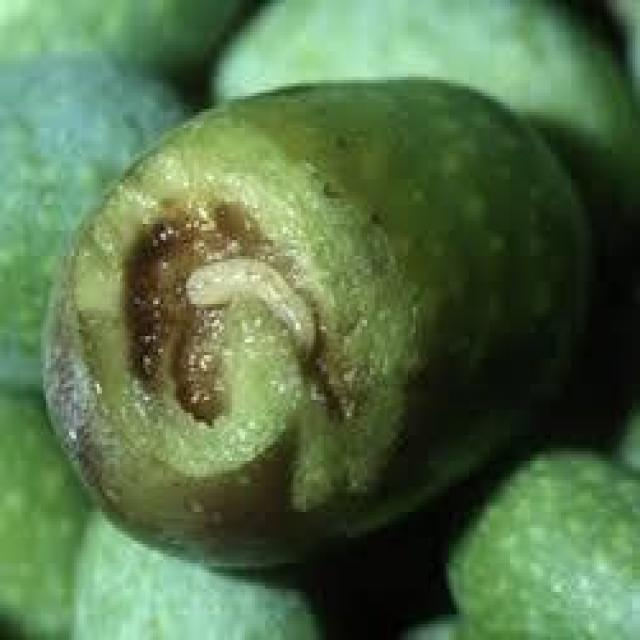Anthracnose: (43, 80, 589, 563)
